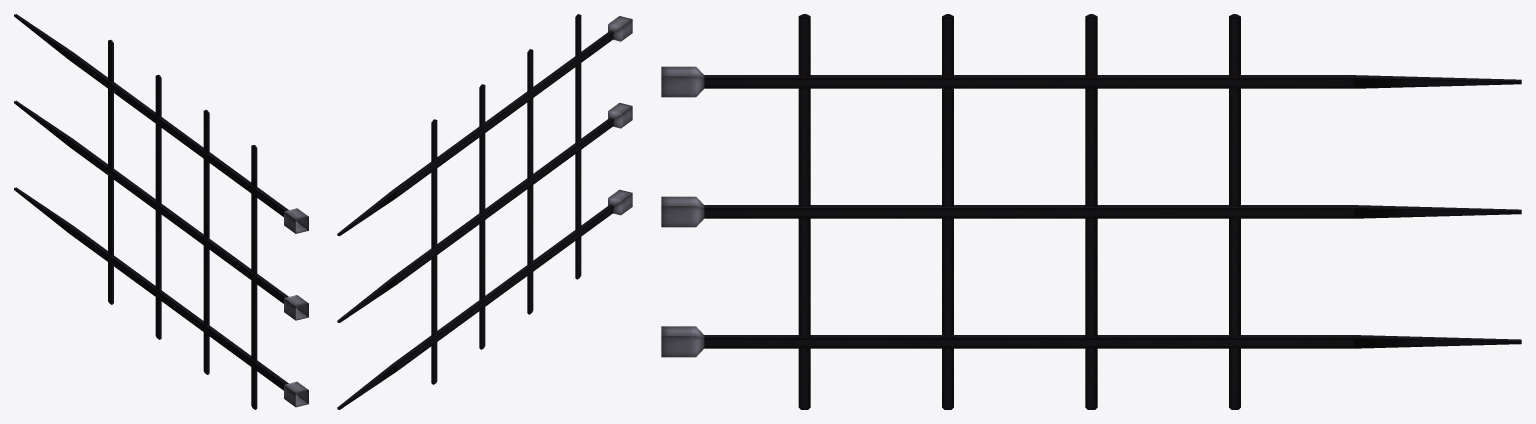
The model's file is fence.dae.
3 views of the same model, side by side, from view 1: azimuth 30°, elevation 25°; view 2: azimuth 150°, elevation 25°; view 3: azimuth 270°, elevation 25° (orthographic). The views are drawn at different scales.
Visible parts, largest first — view 1: Plane_017, Plane_015, Plane_018, Plane_012, Plane_011, Plane_013, Plane_010, Plane_016, Plane_014, Plane_019; view 2: Plane_015, Plane_017, Plane_018, Plane_011, Plane_012, Plane_013, Plane_010, Plane_014, Plane_016, Plane_019; view 3: Plane_018, Plane_015, Plane_017, Plane_011, Plane_013, Plane_010, Plane_012, Plane_016, Plane_014, Plane_019.
Boxes of the visible parts, bbox=[...] form: Plane_017: bbox=[14, 187, 288, 390]; Plane_015: bbox=[14, 14, 288, 216]; Plane_018: bbox=[14, 100, 288, 303]; Plane_012: bbox=[203, 109, 209, 374]; Plane_011: bbox=[155, 74, 161, 339]; Plane_013: bbox=[251, 145, 257, 409]; Plane_010: bbox=[108, 40, 113, 304]; Plane_016: bbox=[284, 381, 308, 407]; Plane_014: bbox=[284, 208, 308, 233]; Plane_019: bbox=[284, 295, 308, 320]; Plane_015: bbox=[337, 31, 613, 236]; Plane_017: bbox=[337, 204, 613, 409]; Plane_018: bbox=[337, 118, 613, 322]; Plane_011: bbox=[479, 84, 485, 349]; Plane_012: bbox=[527, 49, 533, 314]; Plane_013: bbox=[575, 14, 581, 279]; Plane_010: bbox=[431, 119, 437, 384]; Plane_014: bbox=[608, 16, 632, 41]; Plane_016: bbox=[608, 189, 632, 215]; Plane_019: bbox=[608, 103, 632, 128]; Plane_018: bbox=[704, 205, 1521, 218]; Plane_015: bbox=[704, 75, 1521, 88]; Plane_017: bbox=[704, 335, 1521, 348]; Plane_011: bbox=[1085, 14, 1097, 409]; Plane_013: bbox=[798, 14, 810, 409]; Plane_010: bbox=[1229, 14, 1240, 409]; Plane_012: bbox=[942, 14, 953, 409]; Plane_016: bbox=[661, 326, 704, 357]; Plane_014: bbox=[661, 66, 704, 97]; Plane_019: bbox=[661, 196, 704, 227].
Bounding box in the file's own units: 0.1058 × 4 × 2.03.
Materials: 1 (1 with a texture image).
